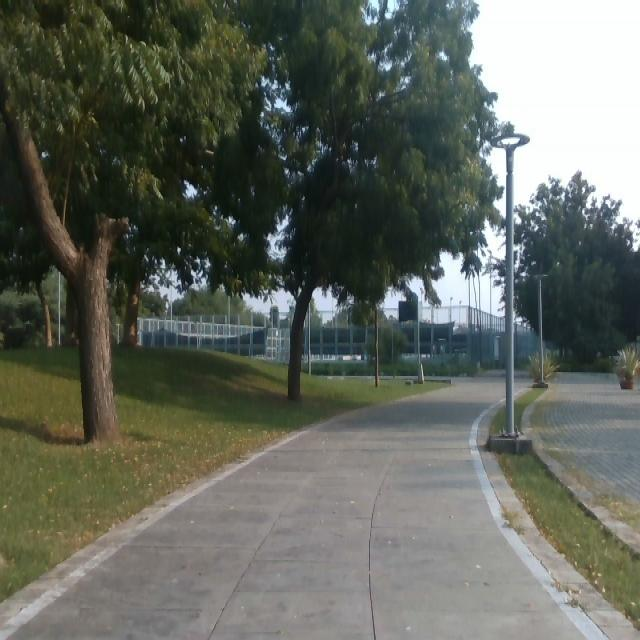lane: (7, 384, 587, 640)
